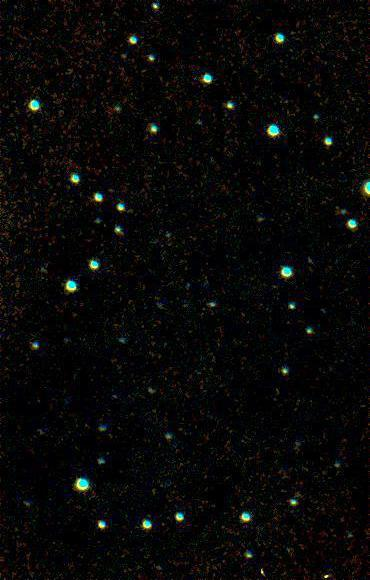star: (313, 559, 343, 580)
